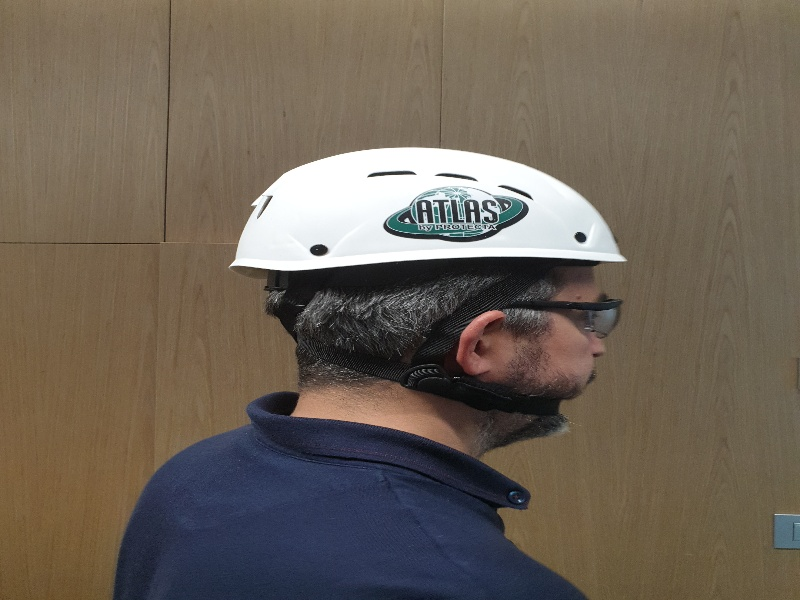Baret: (224, 146, 631, 274)
Gozluk: (493, 297, 624, 334)
